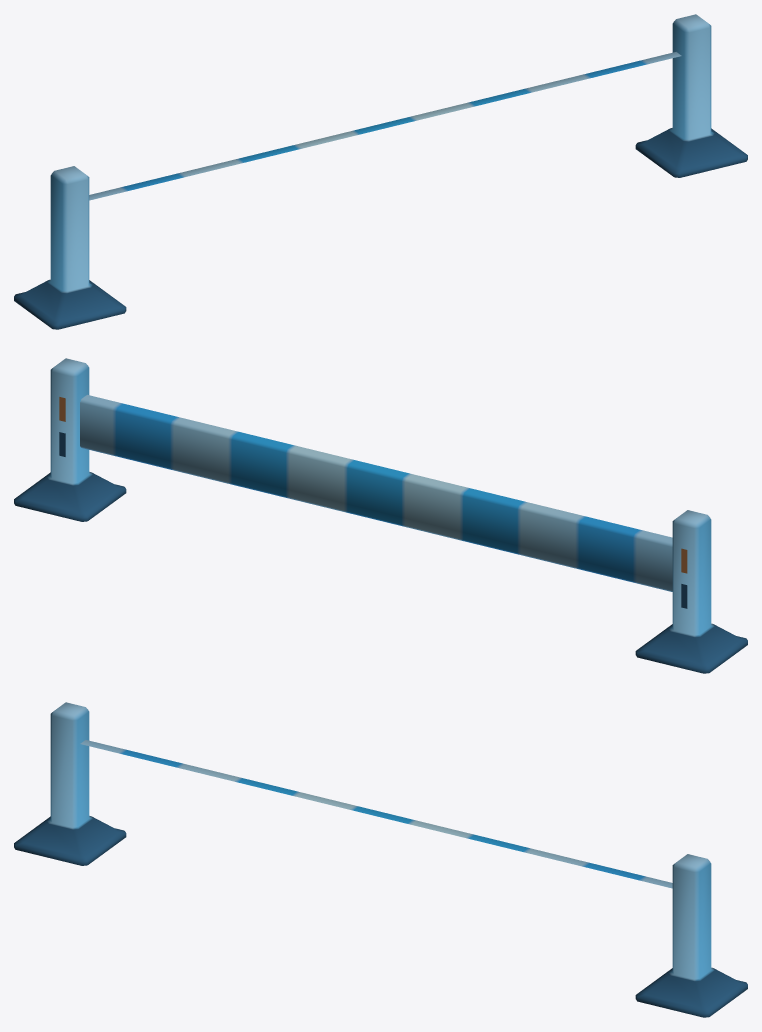
File: RoadWorksBarrierLowNight.glb
The picture shows the model from 3 angles, top to bottom: view 1: azimuth 30°, elevation 25°; view 2: azimuth 150°, elevation 25°; view 3: azimuth 330°, elevation 25°; orthographic projection.
Visible parts, largest first — view 1: RoadWorksBarrierLowNight; view 2: RoadWorksBarrierLowNight; view 3: RoadWorksBarrierLowNight.
Part boxes in pixels (x1,y1,x2,y2): RoadWorksBarrierLowNight: [14, 14, 747, 329]; RoadWorksBarrierLowNight: [14, 358, 747, 673]; RoadWorksBarrierLowNight: [14, 702, 747, 1017].
Size of the model in its own units: 4.02 by 0.7362 by 0.4257.
